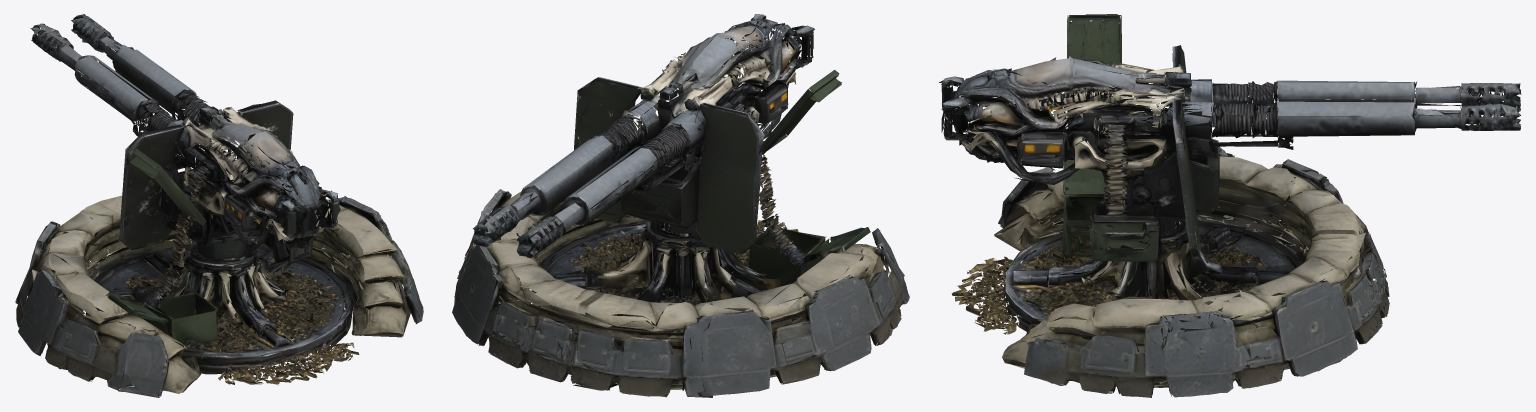
The model's file is vesper_autocannon_bipod.glb.
3 renders of one model, left to right at view 1: azimuth 30°, elevation 25°; view 2: azimuth 150°, elevation 25°; view 3: azimuth 270°, elevation 25°, orthographic. The views are drawn at different scales.
Parts seen in each view (by area): view 1: node_0; view 2: node_0; view 3: node_0.
Part boxes in pixels (bbox=[...]): node_0: bbox=[15, 14, 423, 397]; node_0: bbox=[452, 14, 909, 397]; node_0: bbox=[939, 14, 1521, 397].
Bounding box in the file's own units: 0.8919 × 0.5137 × 1.11.
1 material, 1 textured.
